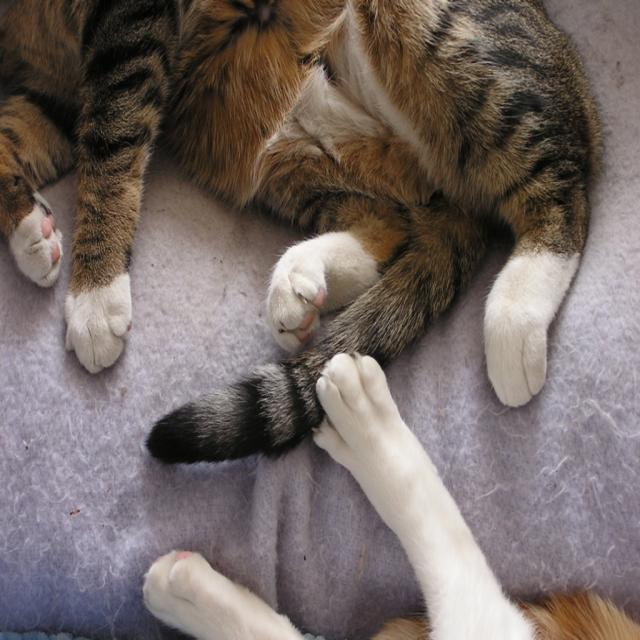Cat: (0, 0, 606, 468)
